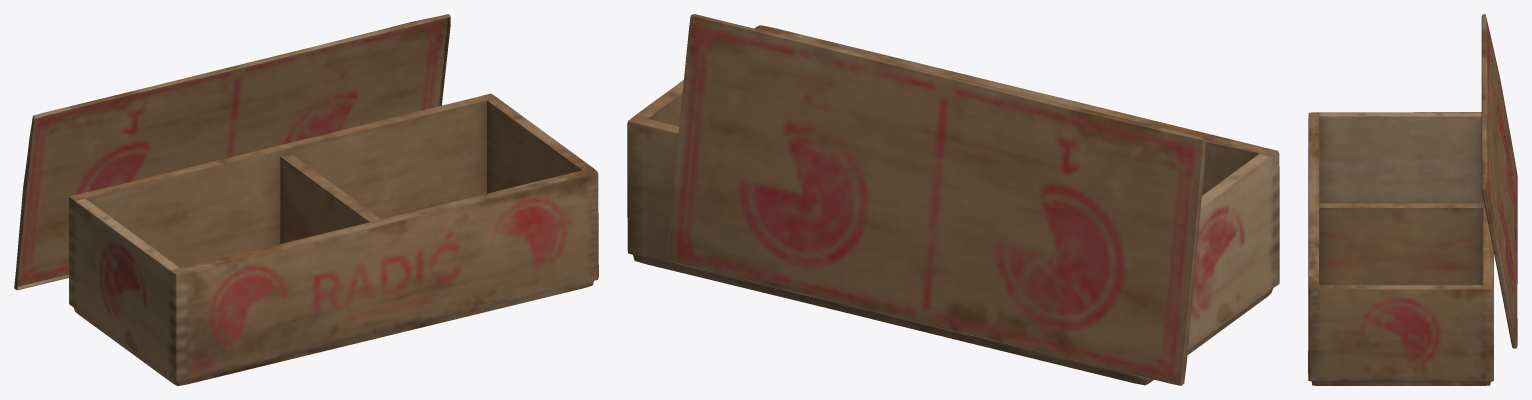
The model's file is CheeseBox_01c_mini.gltf.
The picture shows the model from 3 angles, left to right: view 1: azimuth 30°, elevation 25°; view 2: azimuth 150°, elevation 25°; view 3: azimuth 270°, elevation 25°; orthographic projection. The views are drawn at different scales.
Visible parts, largest first — view 1: Base_low, Lid_low; view 2: Lid_low, Base_low; view 3: Base_low, Lid_low.
Part boxes in pixels (<box>): Base_low: <box>68,93,598,385</box>; Lid_low: <box>14,14,450,290</box>; Lid_low: <box>668,14,1205,385</box>; Base_low: <box>627,25,1279,385</box>; Base_low: <box>1308,112,1493,385</box>; Lid_low: <box>1481,14,1517,348</box>.
Size of the model in its own units: 2.64 by 1.13 by 1.2.
1 material, 1 textured.
